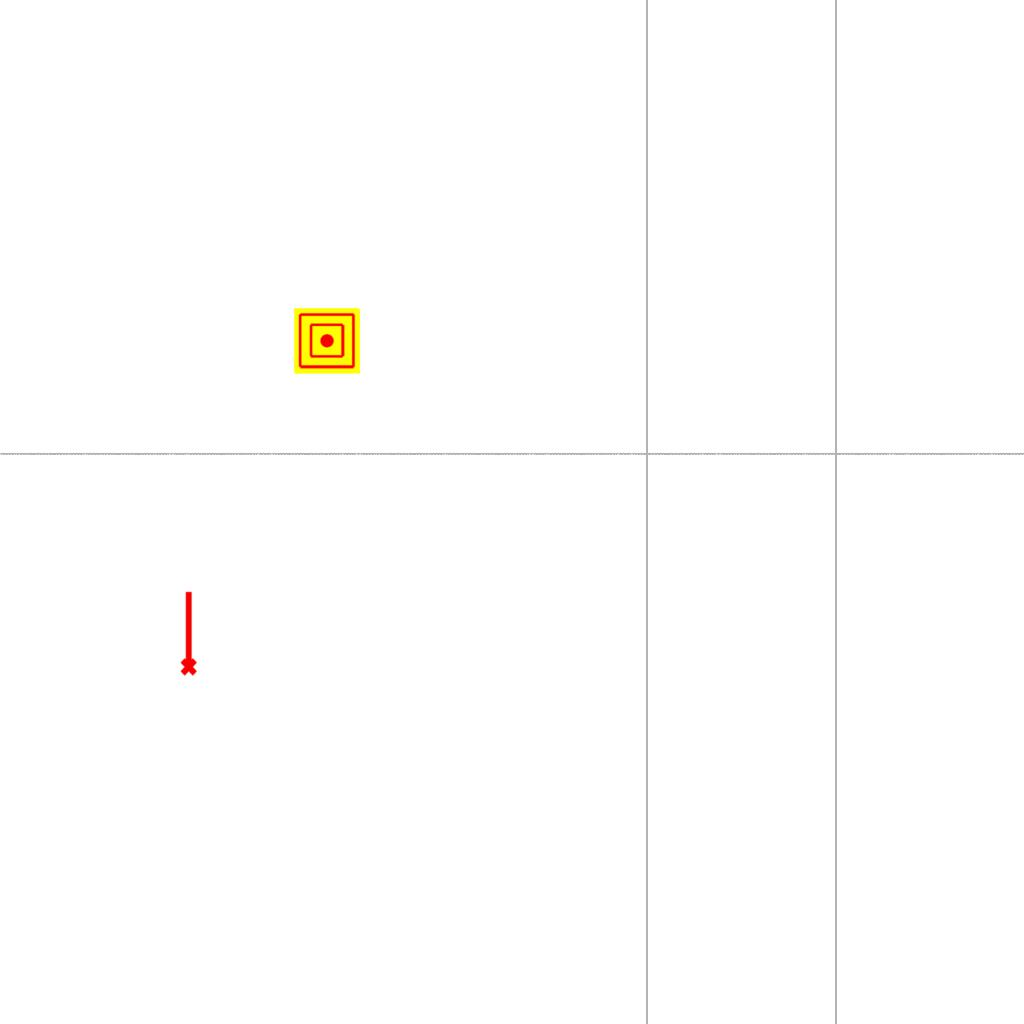ASR_Ansaugoeffnung: (176, 589, 199, 677)
NAM-Nichtautomatischer_Melder: (294, 308, 360, 374)
